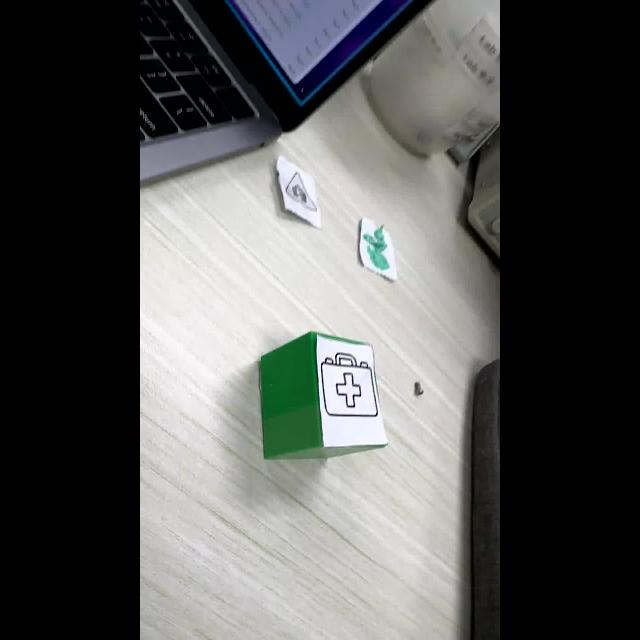Medkit: (318, 347, 379, 422)
